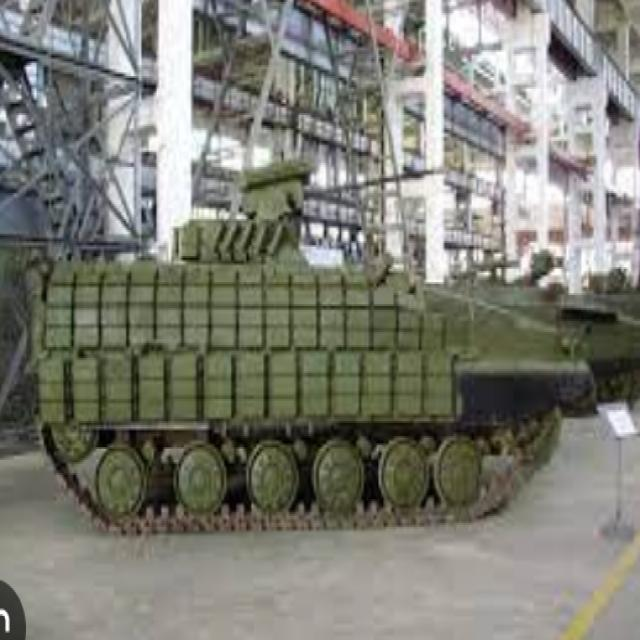MIL_APC: (26, 202, 589, 552)
